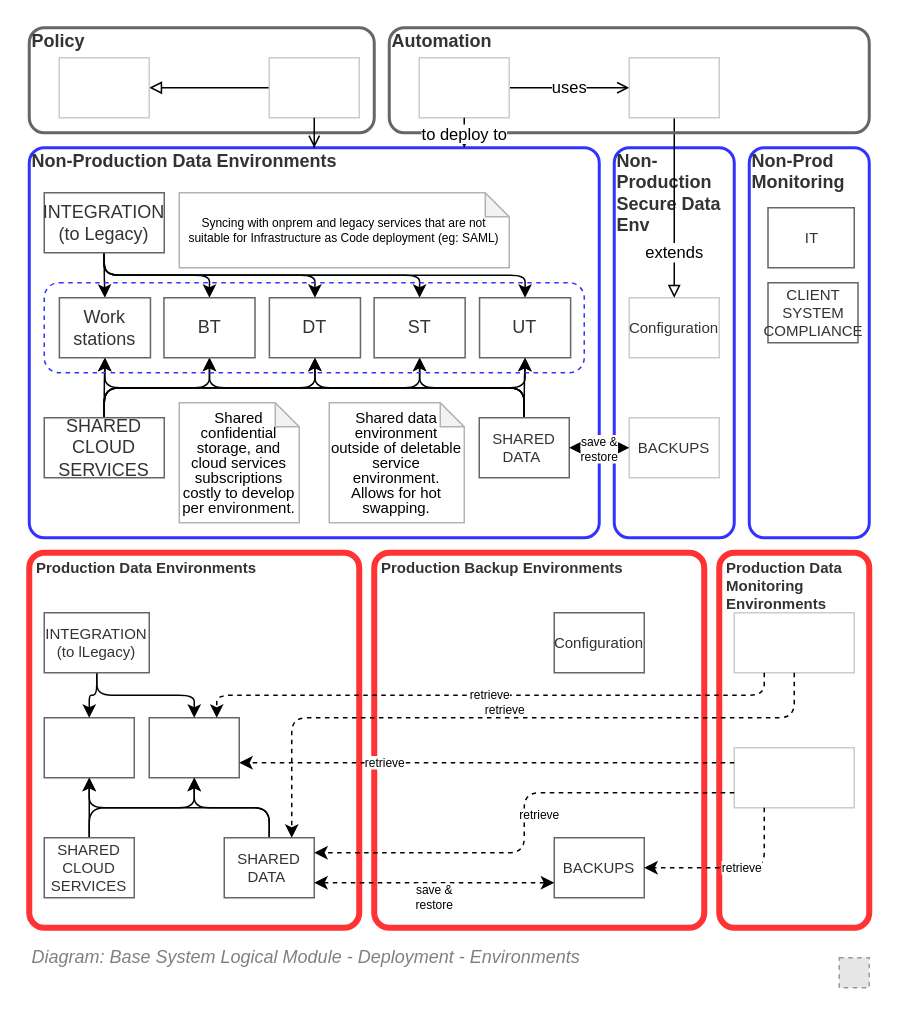
This 897x1014 diagram has some shape labels left out. Grey dashed boxes stand in for pictures. Here are the shapes that lost their labels. From the top down, the centre of each, then its label:
At (x=103, y=87): "Cloud Security Policies".
At (x=313, y=87): "Automation of Policy".
At (x=463, y=87): "Deployment Pipeline".
At (x=673, y=87): "Secured Configuration".
At (x=793, y=642): "SCOM/etc. based Central Logging".
At (x=88, y=747): "HOTSWAP (optional)".
At (x=193, y=747): "PROD".
At (x=793, y=777): "Monitoring".
